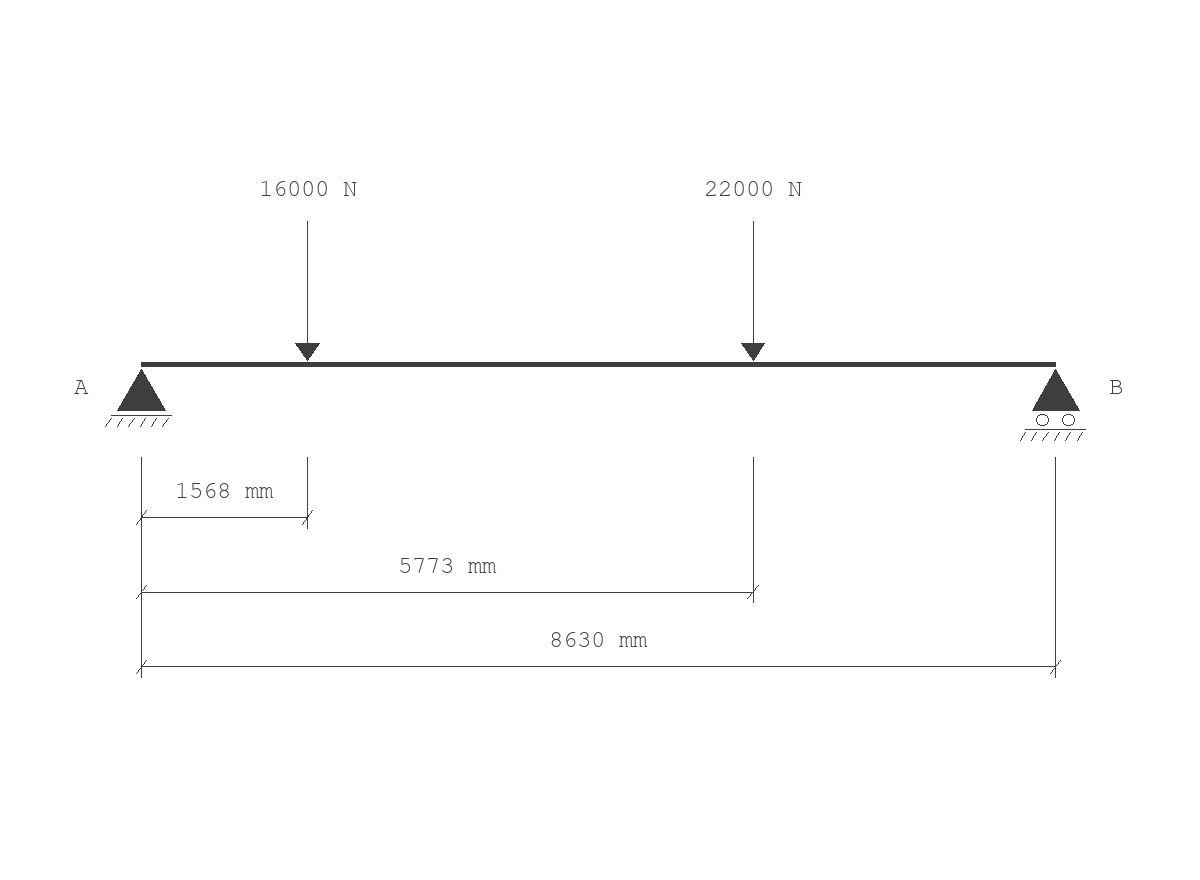pin_support: (105, 369, 172, 427)
point_load: (295, 221, 320, 361), (741, 221, 765, 361)
roller_support: (1020, 369, 1086, 441)
